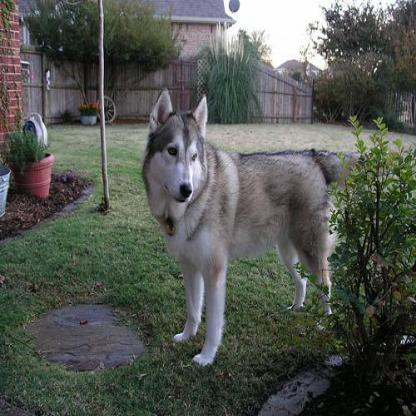Eskimo_dog: (133, 89, 335, 367)
